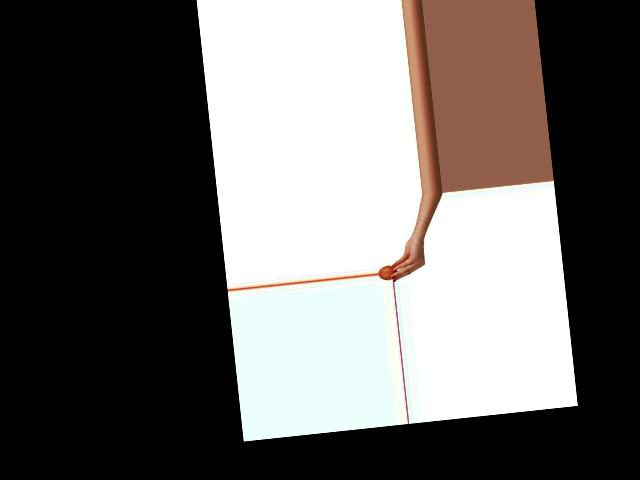egg: (378, 264, 397, 280)
